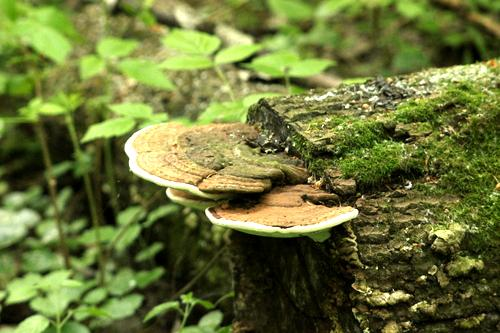Ganoderma - Fruit Body: (123, 119, 359, 244)
